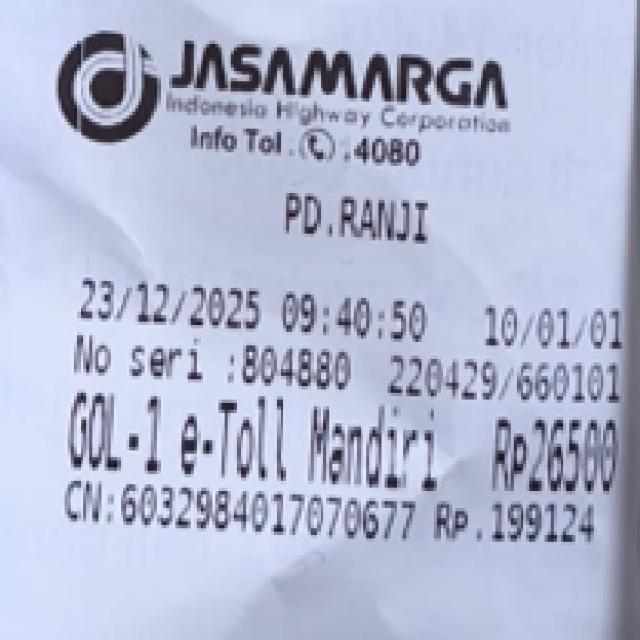date: (83, 268, 436, 342)
store: (181, 36, 531, 140)
total: (477, 410, 621, 490)
